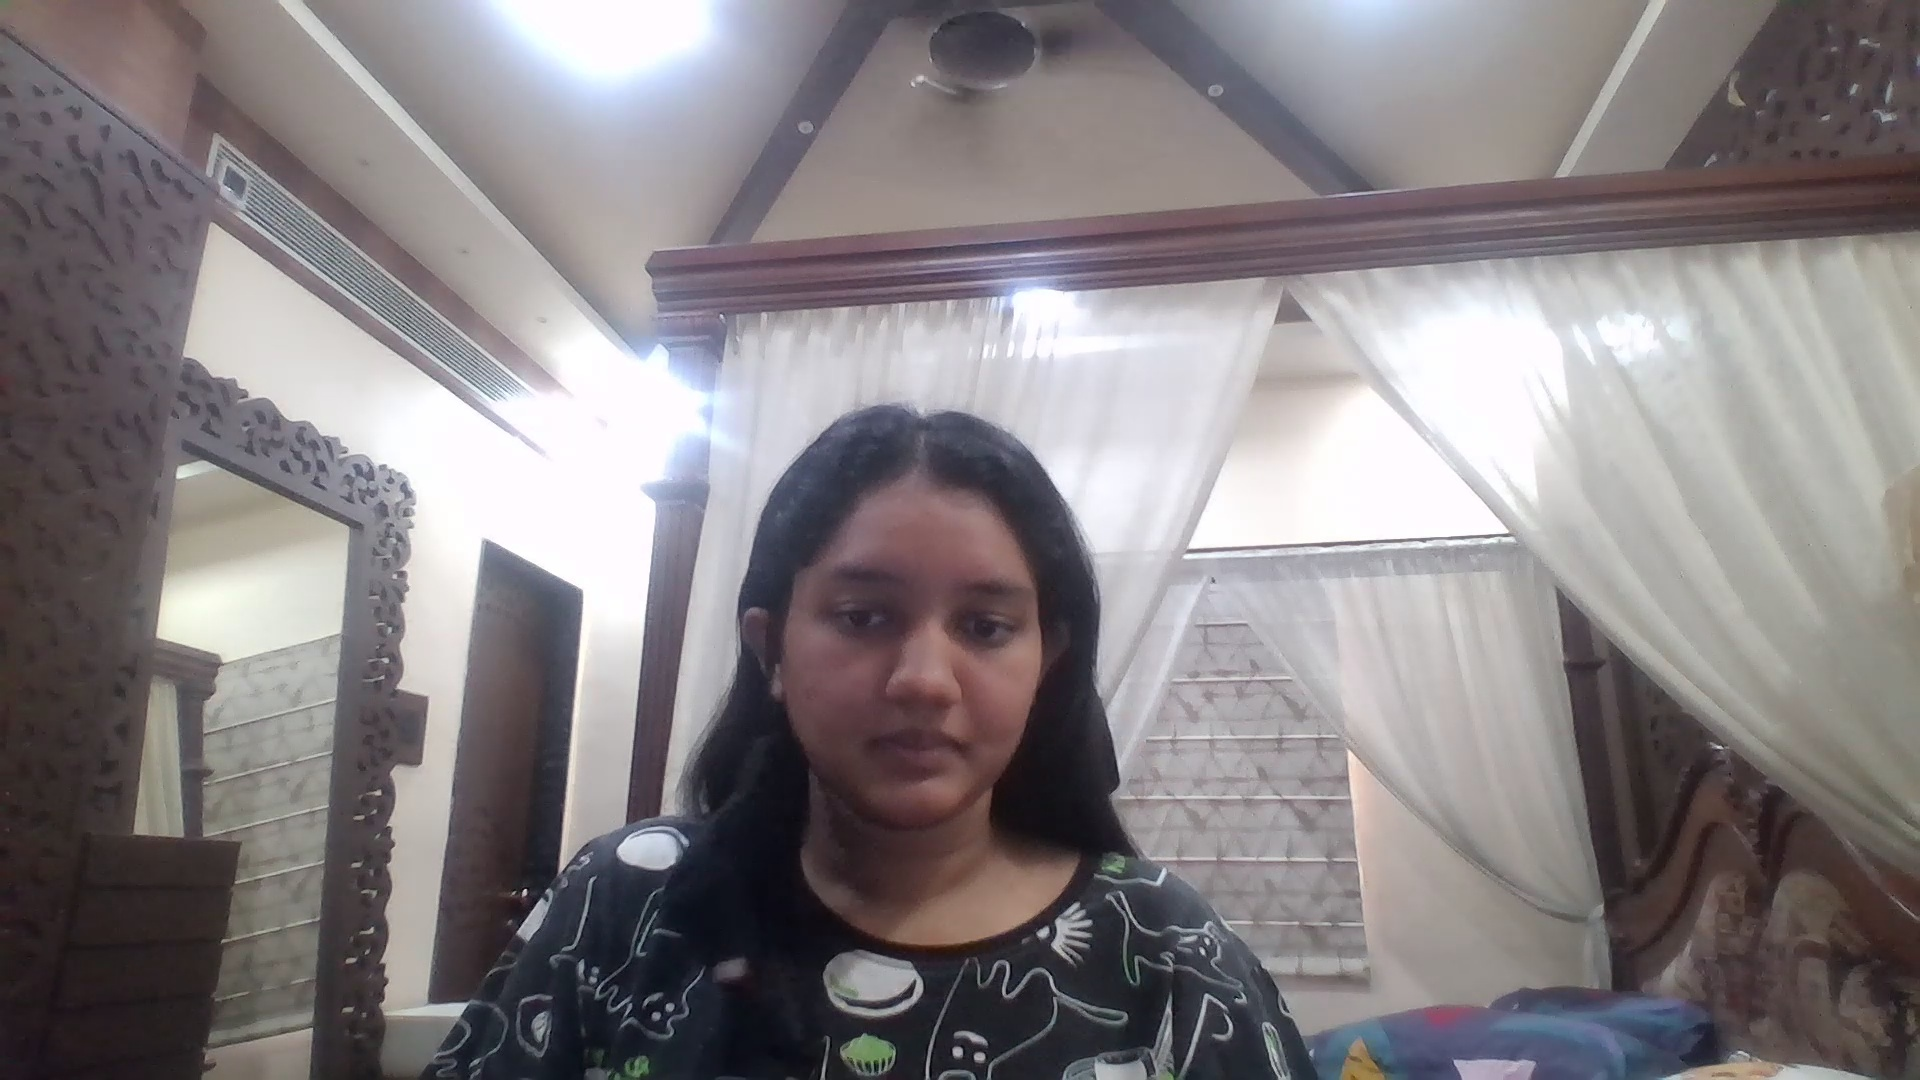No Mask: (784, 650, 1053, 841)
